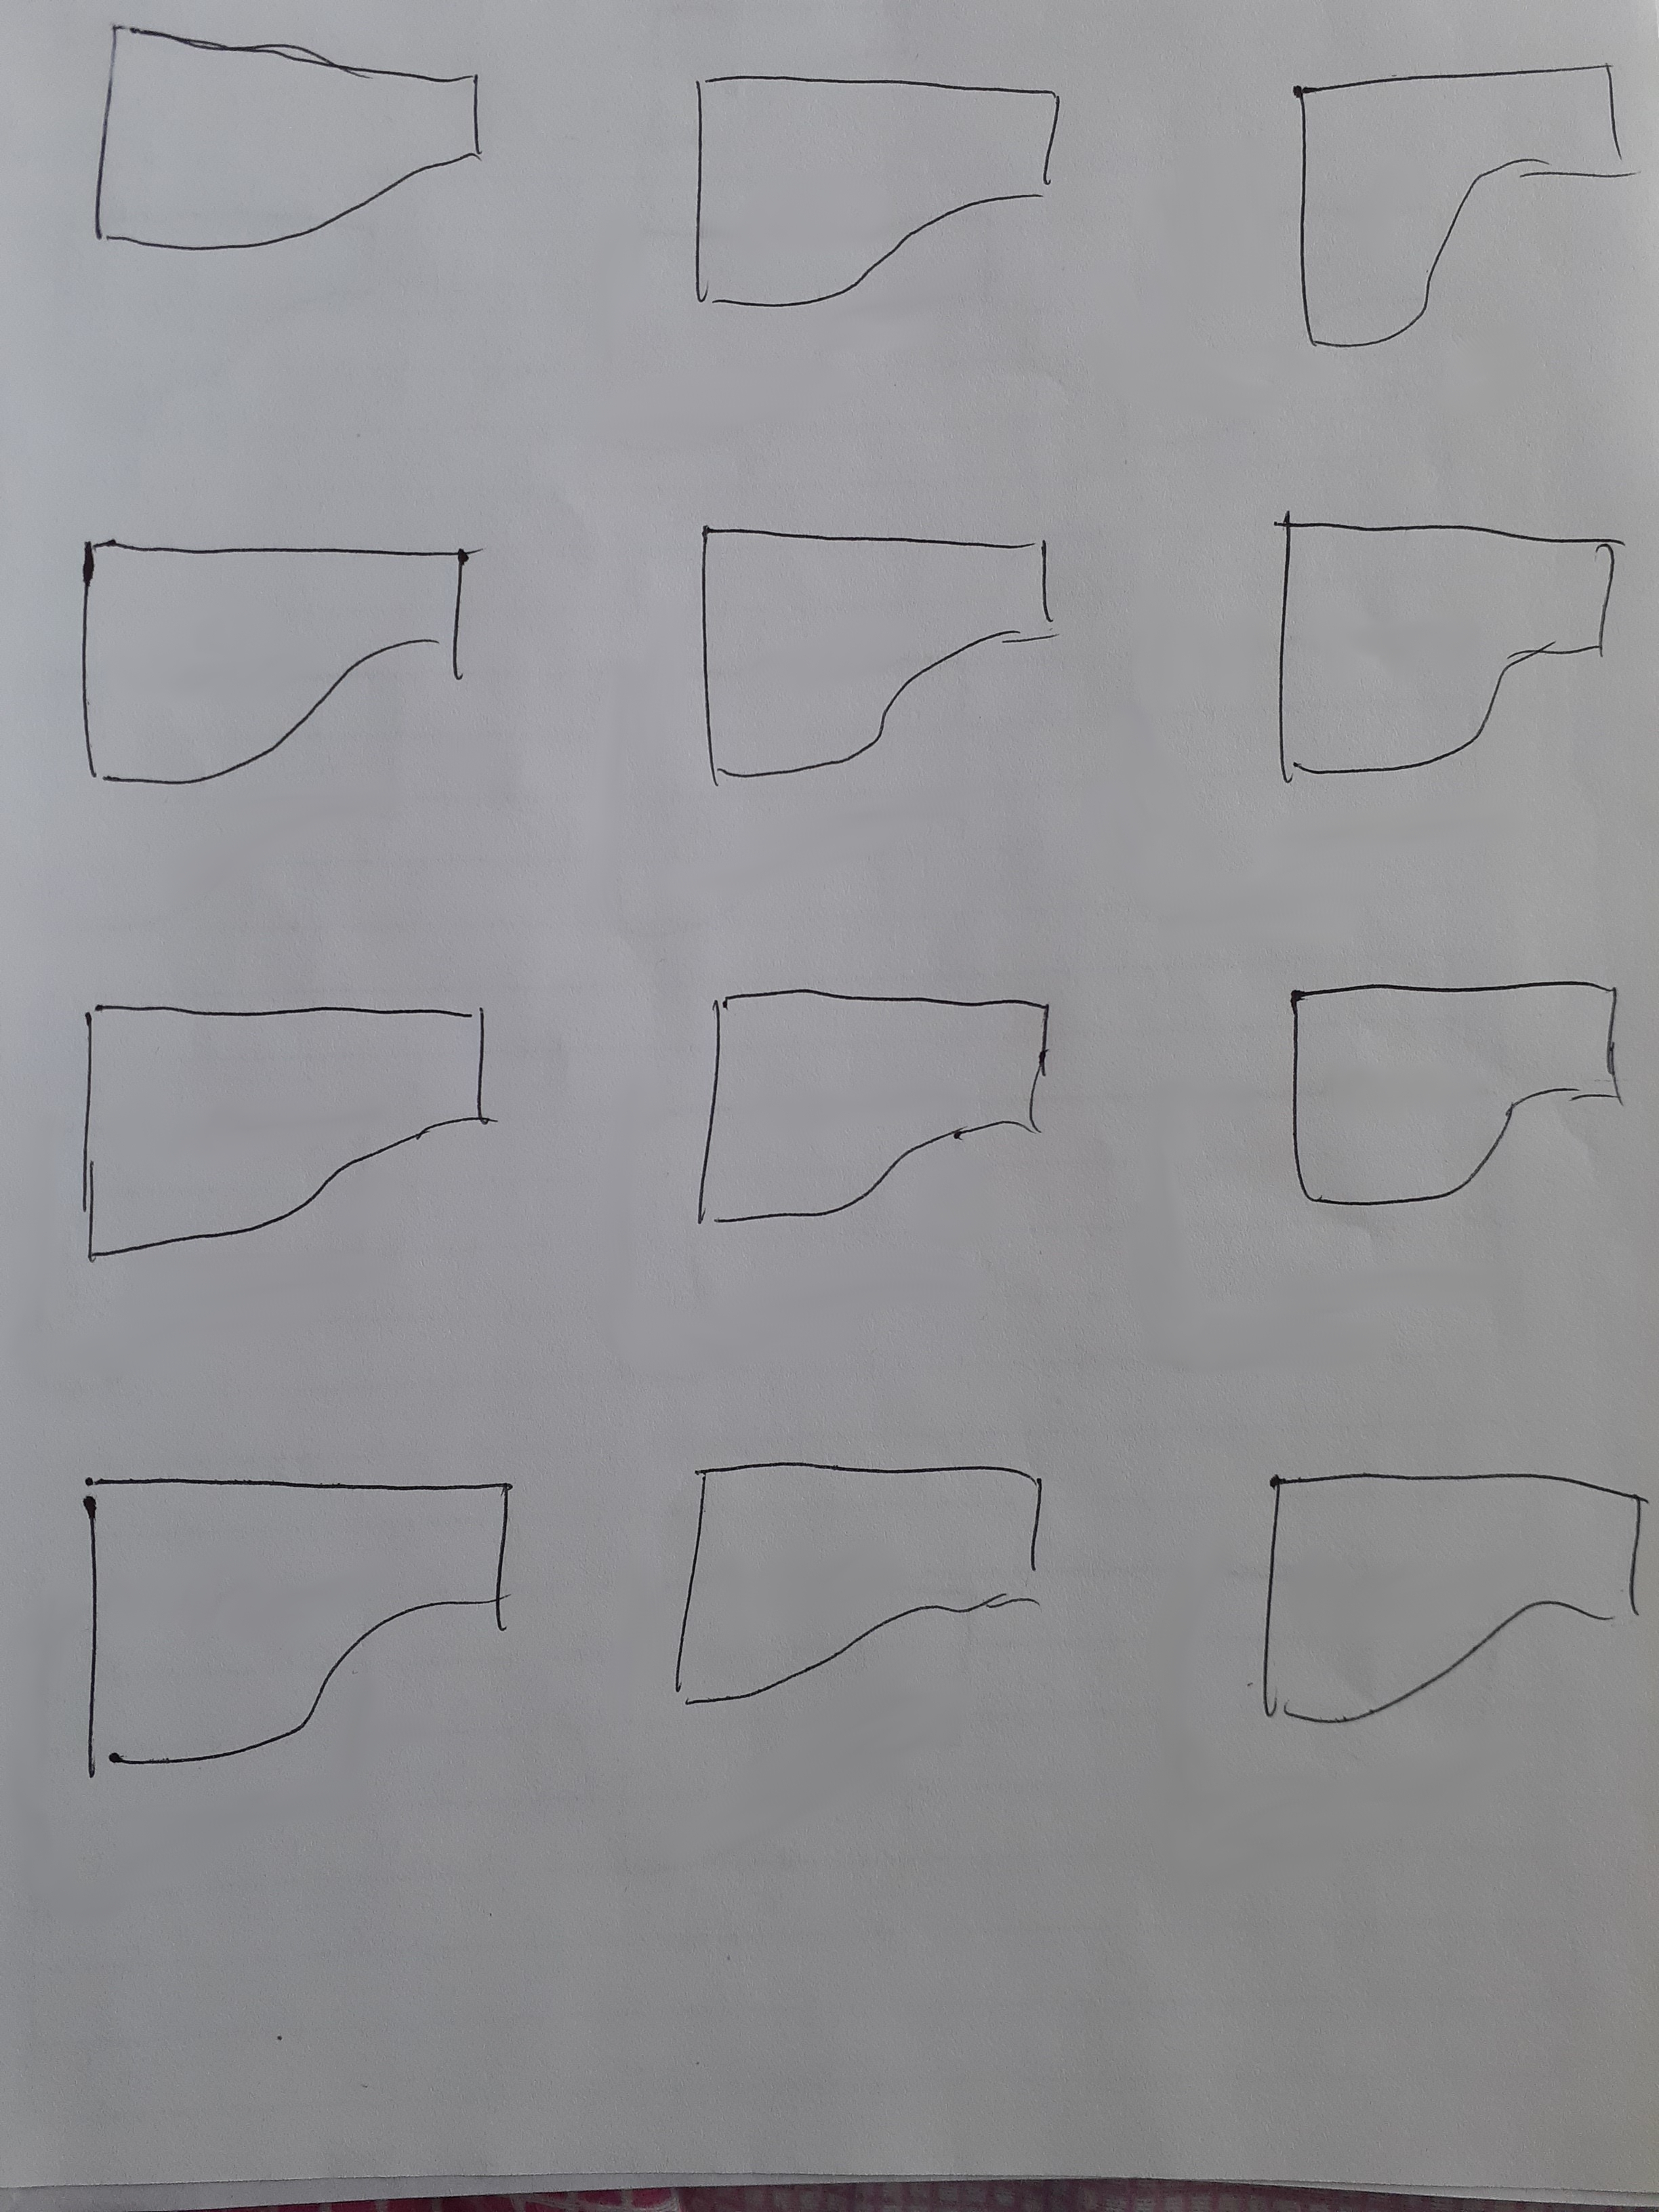print: (38, 1447, 544, 1791), (35, 953, 523, 1296), (49, 486, 502, 827), (89, 2, 502, 340), (666, 503, 1094, 822), (648, 1414, 1075, 1726), (1227, 1447, 1654, 1754), (678, 951, 1089, 1268), (1248, 486, 1628, 808), (678, 45, 1082, 336), (1277, 42, 1638, 354), (1230, 960, 1642, 1231)
